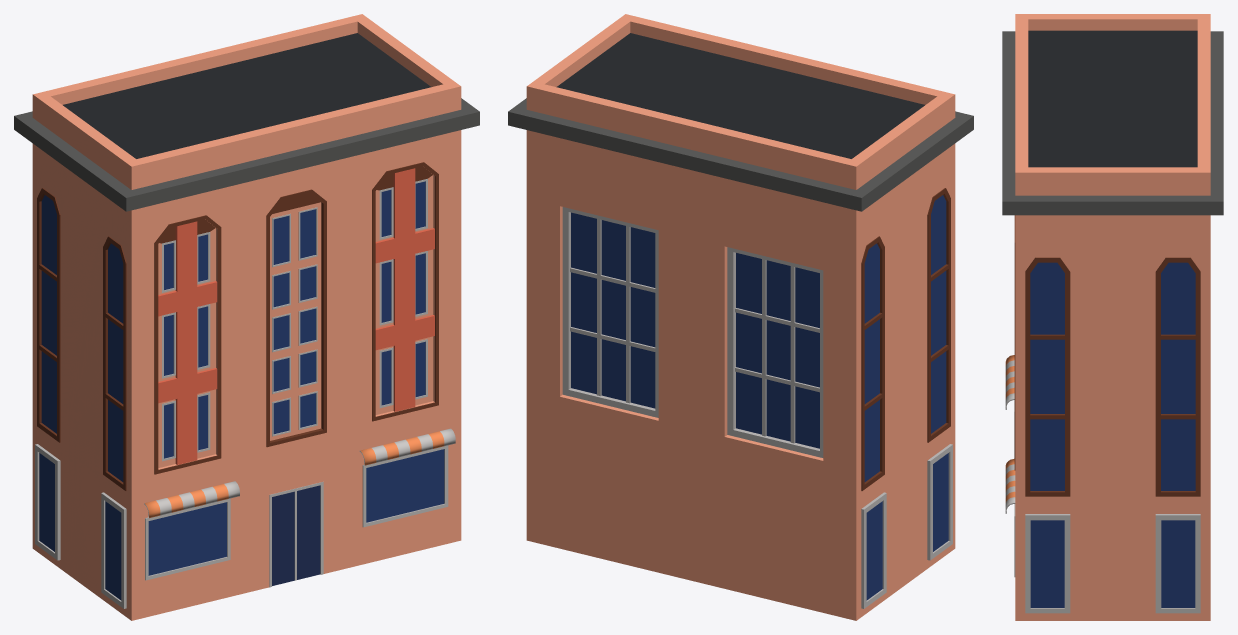
The model's file is Building_3.fbx.
3 renders of one model, left to right at view 1: azimuth 30°, elevation 25°; view 2: azimuth 150°, elevation 25°; view 3: azimuth 270°, elevation 25°, orthographic.
Parts seen in each view (by area): view 1: Building_3; view 2: Building_3; view 3: Building_3.
Part boxes in pixels (left/top/right/bottom): Building_3: left=14, top=14, right=479, bottom=620; Building_3: left=508, top=14, right=973, bottom=620; Building_3: left=1002, top=14, right=1223, bottom=620.
Size of the model in its own units: 741 by 909 by 407.
